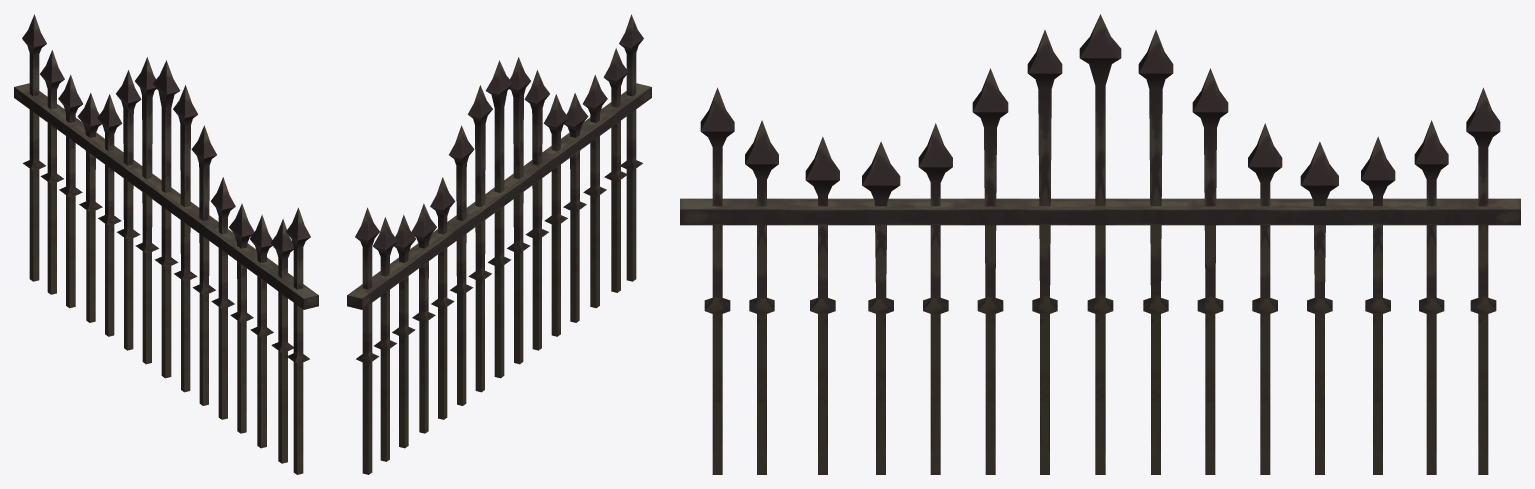
Rendered from PUZZLE_FENCE.fbx.
The picture shows the model from 3 angles, left to right: view 1: azimuth 30°, elevation 25°; view 2: azimuth 150°, elevation 25°; view 3: azimuth 270°, elevation 25°; orthographic projection. The views are drawn at different scales.
Visible parts, largest first — view 1: MeshBaker_mesh_mesh; view 2: MeshBaker_mesh_mesh; view 3: MeshBaker_mesh_mesh.
Boxes of the visible parts, bbox=[...] form: MeshBaker_mesh_mesh: bbox=[14, 14, 318, 474]; MeshBaker_mesh_mesh: bbox=[347, 14, 651, 474]; MeshBaker_mesh_mesh: bbox=[680, 14, 1520, 474].
Size of the model in its own units: 36.91 by 731 by 1214.
1 material, 1 textured.
